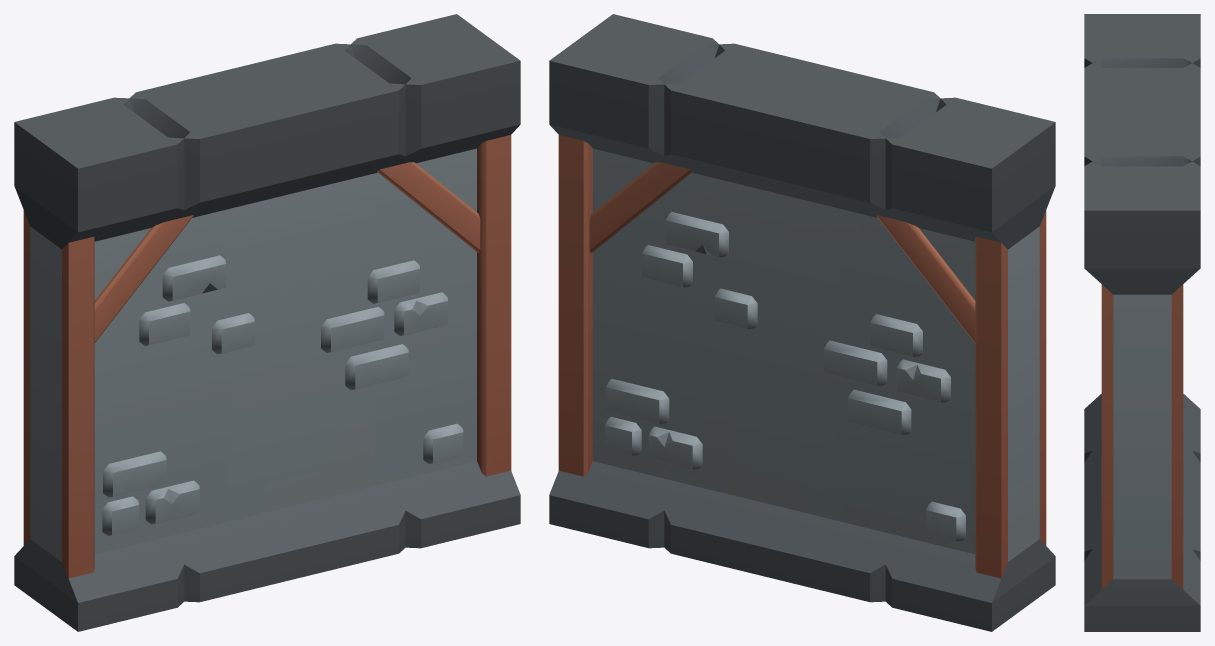
File: kaykit-dungeon-remastered-wall-scaffold-gltf.glb
3 renders of one model, left to right at view 1: azimuth 30°, elevation 25°; view 2: azimuth 150°, elevation 25°; view 3: azimuth 270°, elevation 25°, orthographic. The views are drawn at different scales.
Parts seen in each view (by area): view 1: wall_scaffold; view 2: wall_scaffold; view 3: wall_scaffold.
Part boxes in pixels (x1,y1,x2,y2): wall_scaffold: (14, 14, 520, 631); wall_scaffold: (549, 14, 1055, 631); wall_scaffold: (1084, 14, 1200, 631).
Size of the model in its own units: 4 by 4 by 1.
Materials: 1 (1 with a texture image).
